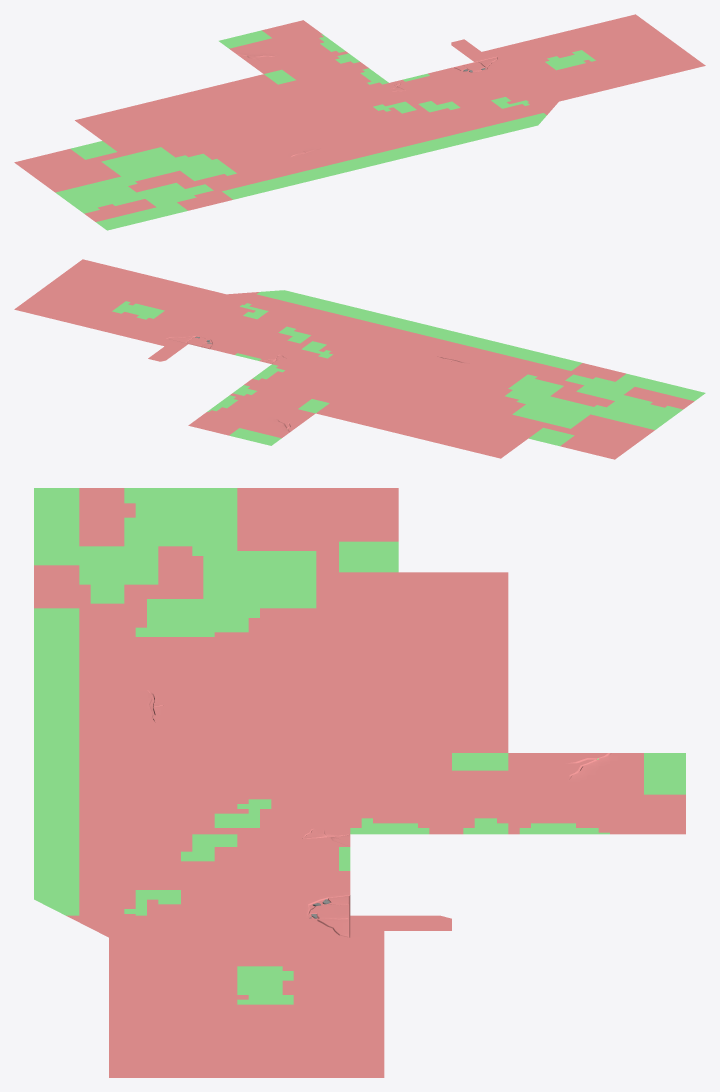
Rendered from S_Envi_FZFBase_Ground_01n.gltf.
3 views of the same model, one above another, from view 1: azimuth 30°, elevation 25°; view 2: azimuth 150°, elevation 25°; view 3: azimuth 270°, elevation 25° (orthographic). The views are drawn at different scales.
Parts seen in each view (by area): view 1: S_Envi_FZFBase_Ground_01n; view 2: S_Envi_FZFBase_Ground_01n; view 3: S_Envi_FZFBase_Ground_01n.
Part boxes in pixels (x1,y1,x2,y2): S_Envi_FZFBase_Ground_01n: (14, 14, 705, 230); S_Envi_FZFBase_Ground_01n: (14, 259, 705, 459); S_Envi_FZFBase_Ground_01n: (34, 488, 685, 1077).
Bounding box in the file's own units: 36.13 × 0.0668 × 16.87.
